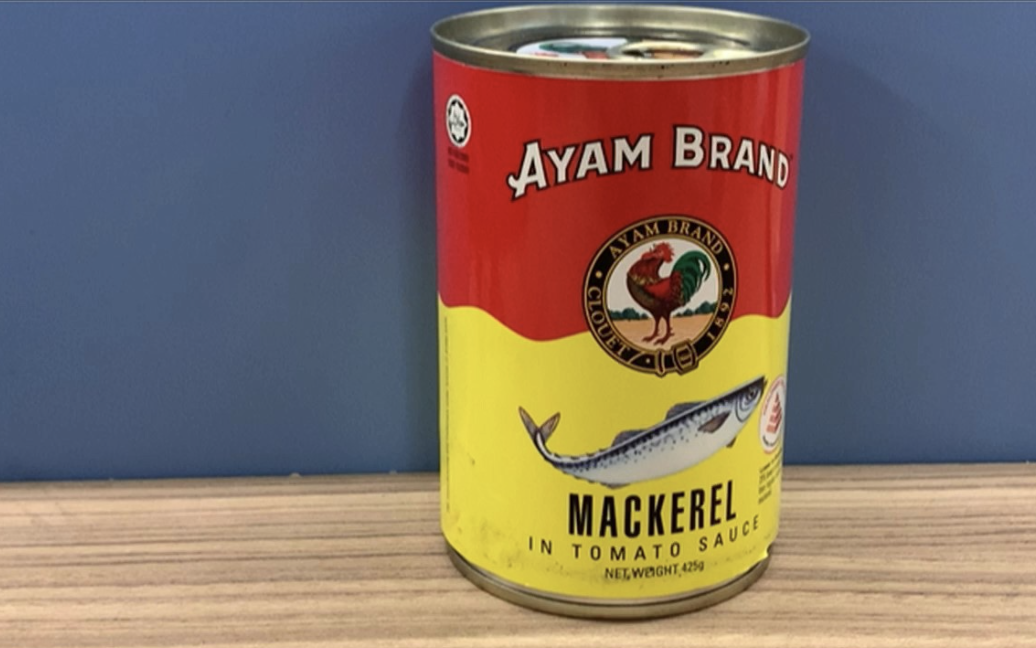sardines_450g: (437, 66, 784, 573)
